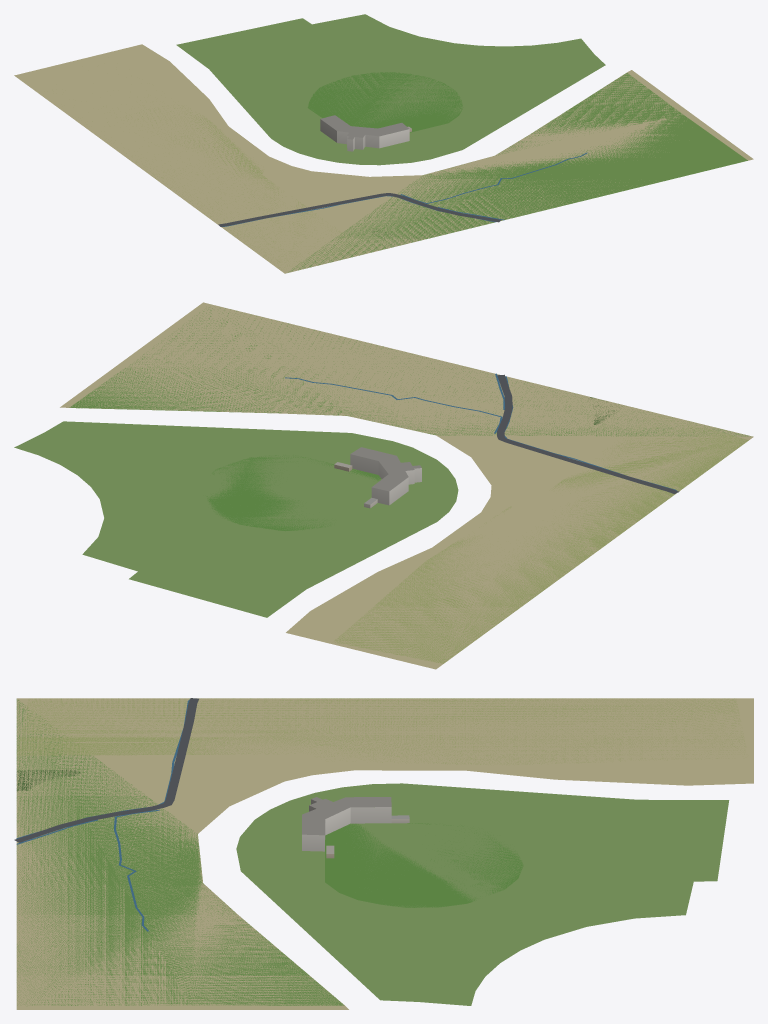
3 renders of one model, top to bottom at view 1: azimuth 30°, elevation 25°; view 2: azimuth 150°, elevation 25°; view 3: azimuth 270°, elevation 25°, orthographic. The views are drawn at different scales.
Parts seen in each view (by area): view 1: landuse, buildings_walls, roads, buildings_roofs, water; view 2: landuse, buildings_walls, roads, buildings_roofs, water; view 3: landuse, roads, buildings_walls, buildings_roofs, water.
Part boxes in pixels (<box>): landuse: <box>14,14,753,273</box>; buildings_walls: <box>320,119,411,151</box>; roads: <box>218,193,500,226</box>; buildings_roofs: <box>321,115,411,139</box>; water: <box>222,152,587,226</box>; landuse: <box>14,302,753,669</box>; buildings_walls: <box>334,454,421,508</box>; roads: <box>497,374,679,493</box>; buildings_roofs: <box>334,447,421,504</box>; water: <box>285,373,676,490</box>; landuse: <box>16,698,753,1009</box>; roads: <box>14,698,198,842</box>; buildings_walls: <box>302,799,409,858</box>; buildings_roofs: <box>302,797,409,853</box>; water: <box>16,699,189,931</box>.
Bounding box in the file's own units: 501 × 12.2 × 502.
